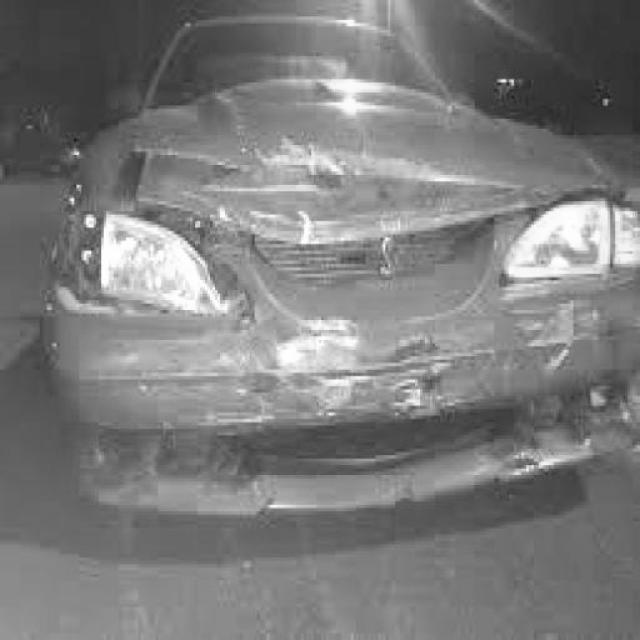car damage: (58, 119, 638, 516)
